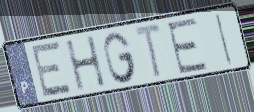E: (165, 15, 210, 76), (30, 39, 74, 100)
G: (102, 30, 139, 86)
H: (63, 33, 108, 93)
I: (213, 11, 234, 68)
T: (133, 21, 164, 82)
